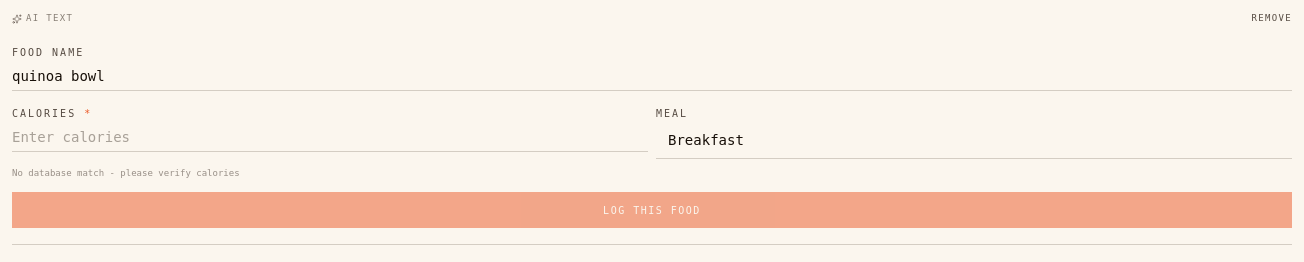
it: FoodReviewRow - estimate › enables Log button after user fills in calories
In the number field labelled "Calories *": {"x": 330, "y": 137} [12,122,648,152], type "400"
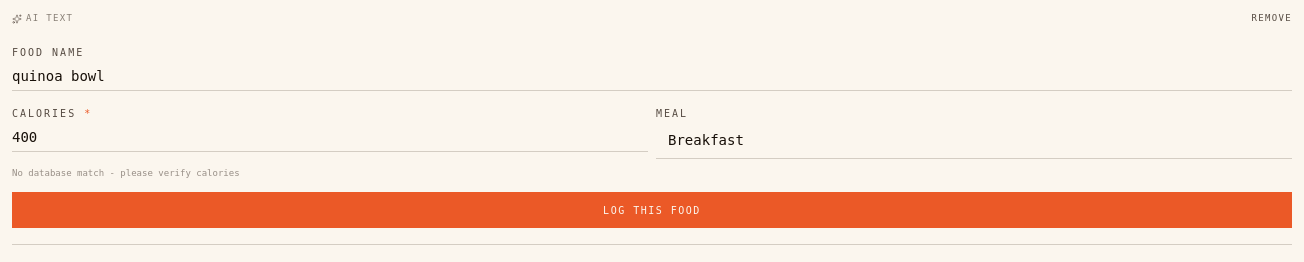
expect the button "Log this food" is enabled: met, box [12,192,1292,228]
